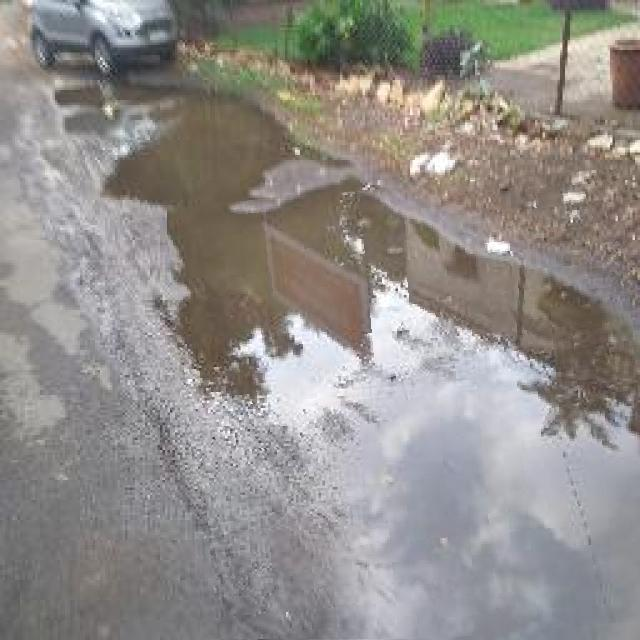puddle: (177, 178, 640, 640)
